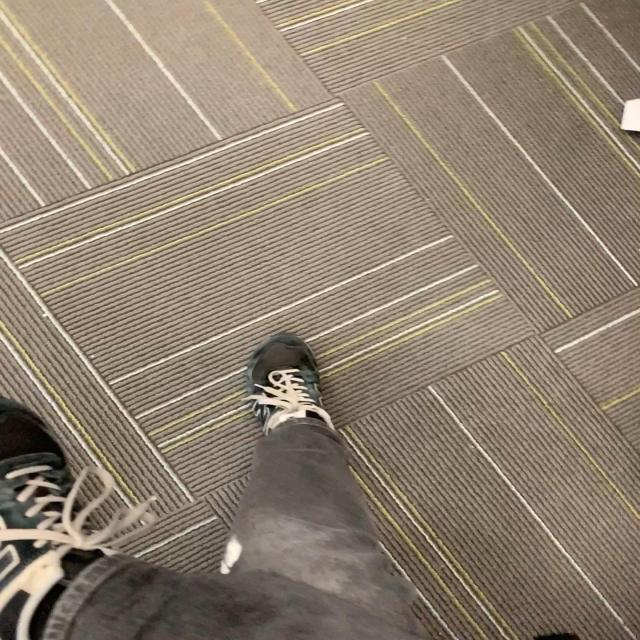shoe: (0, 405, 80, 640), (248, 333, 335, 437)
